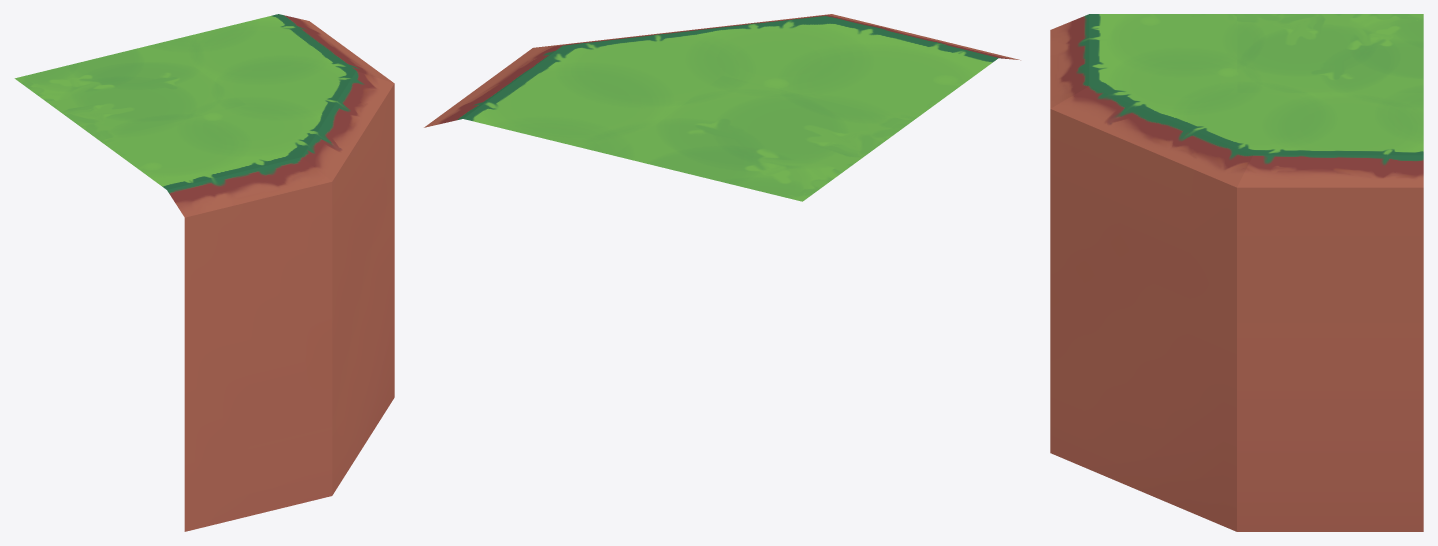
File: bloco_canto.gltf
3 renders of one model, left to right at view 1: azimuth 30°, elevation 25°; view 2: azimuth 150°, elevation 25°; view 3: azimuth 270°, elevation 25°, orthographic. The views are drawn at different scales.
Parts seen in each view (by area): view 1: bloco_canto; view 2: bloco_canto; view 3: bloco_canto.
Part boxes in pixels (<box>): bloco_canto: <box>14,14,394,531</box>; bloco_canto: <box>424,14,1020,201</box>; bloco_canto: <box>1050,14,1423,531</box>.
Bounding box in the file's own units: 2 × 2.13 × 2.
1 material, 1 textured.
